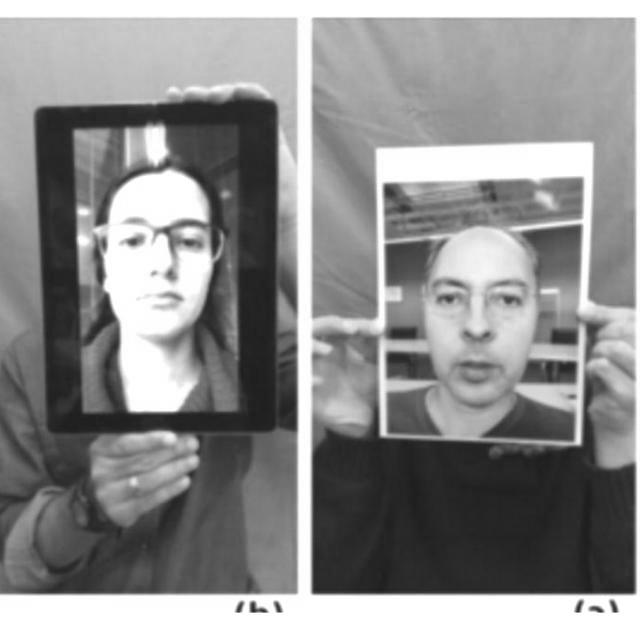fake: (38, 89, 286, 440), (363, 136, 600, 455)
